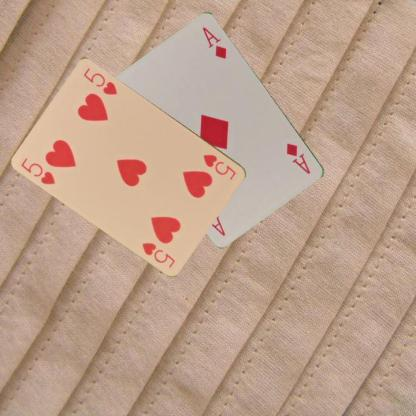5h: (19, 155, 57, 186), (200, 151, 238, 181)
Ad: (284, 140, 312, 176)
